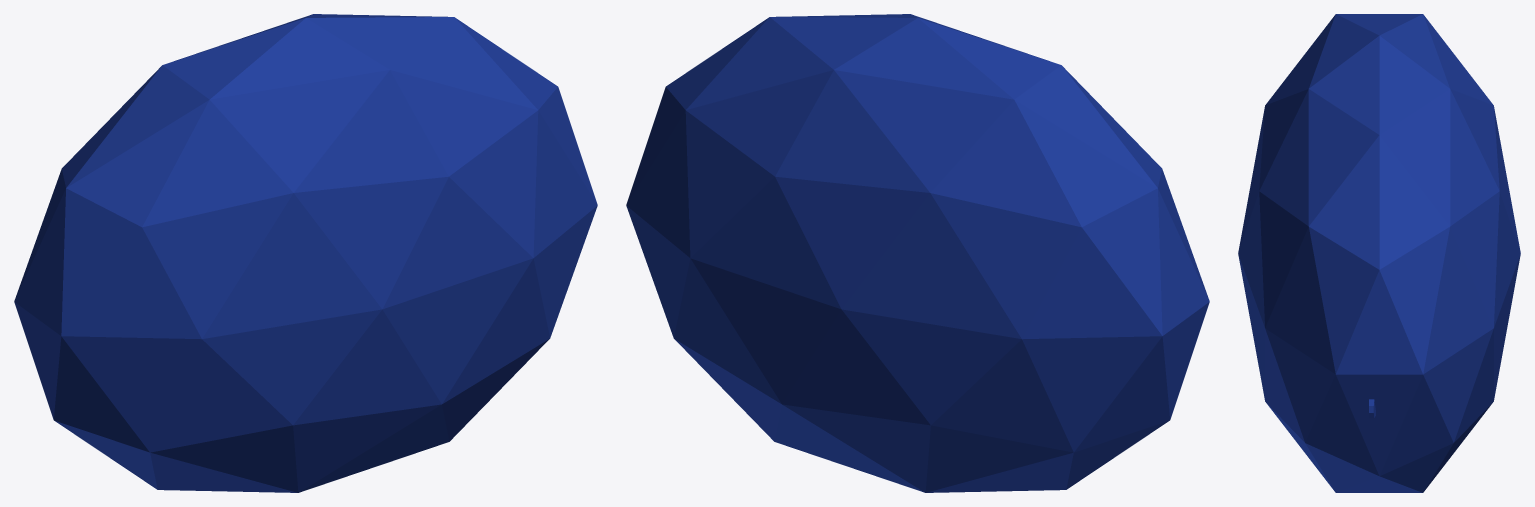
File: shield_activated_ability_form_fitting.fbx
The picture shows the model from 3 angles, left to right: view 1: azimuth 30°, elevation 25°; view 2: azimuth 150°, elevation 25°; view 3: azimuth 270°, elevation 25°; orthographic projection. The views are drawn at different scales.
Parts seen in each view (by area): view 1: Sphere; view 2: Sphere; view 3: Sphere.
Boxes of the visible parts, x1=… form: Sphere: x1=14, y1=14, x2=597, y2=492; Sphere: x1=626, y1=14, x2=1209, y2=492; Sphere: x1=1238, y1=14, x2=1520, y2=492.
Bounding box in the file's own units: 401 × 336 × 198.
